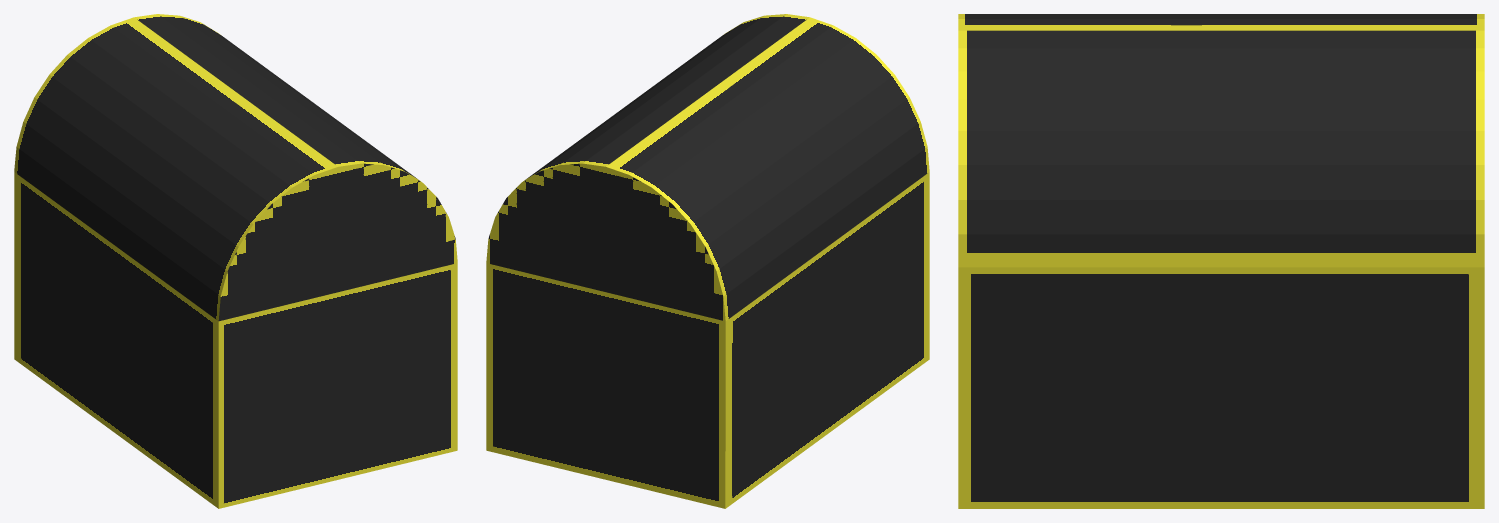
File: jewelrybox.glb
The picture shows the model from 3 angles, left to right: view 1: azimuth 30°, elevation 25°; view 2: azimuth 150°, elevation 25°; view 3: azimuth 270°, elevation 25°; orthographic projection. The views are drawn at different scales.
Parts seen in each view (by area): view 1: Cylinder; view 2: Cylinder; view 3: Cylinder.
Boxes of the visible parts, x1,y1,x2,y2 form: Cylinder: (14,14,457,508); Cylinder: (486,14,929,508); Cylinder: (958,14,1484,508).
Size of the model in its own units: 0.3308 by 0.4134 by 0.489.
1 material, 1 textured.
